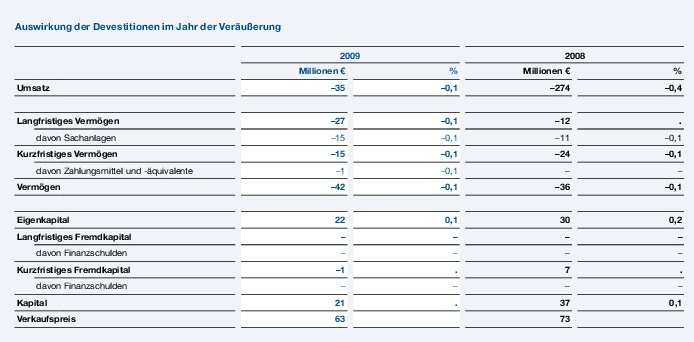table: (0, 0, 694, 342)
